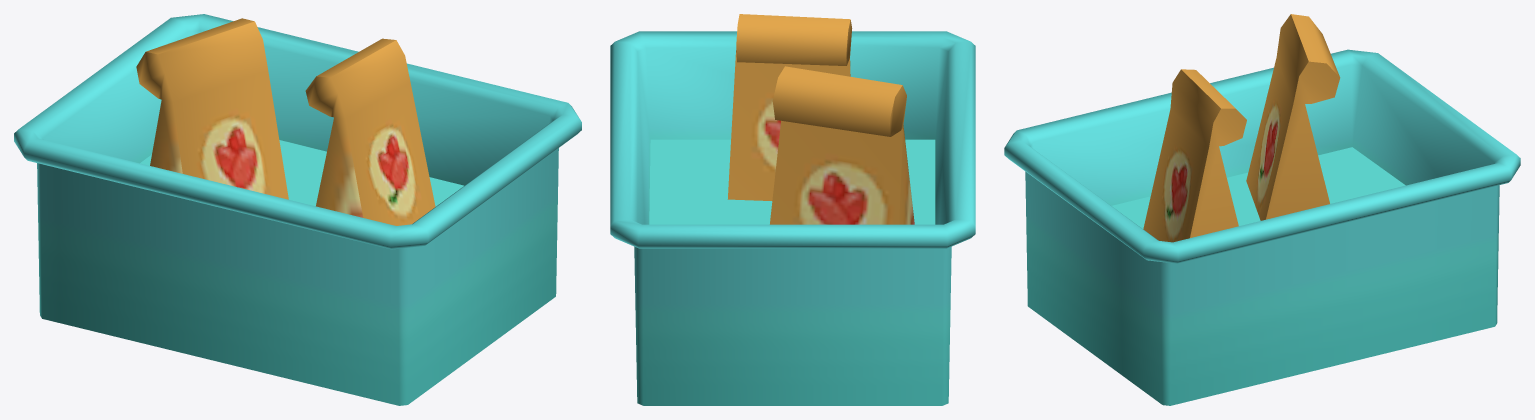
Rendered from SeedBox.fbx.
3 renders of one model, left to right at view 1: azimuth 30°, elevation 25°; view 2: azimuth 150°, elevation 25°; view 3: azimuth 270°, elevation 25°, orthographic. The views are drawn at different scales.
Visible parts, largest first — view 1: SeedBox; view 2: SeedBox; view 3: SeedBox.
Boxes of the visible parts, <box> form: SeedBox: <box>14,14,581,405</box>; SeedBox: <box>610,14,975,405</box>; SeedBox: <box>1004,14,1520,405</box>.
Bounding box in the file's own units: 2.62 × 1.49 × 2.83.
1 material, 1 textured.
